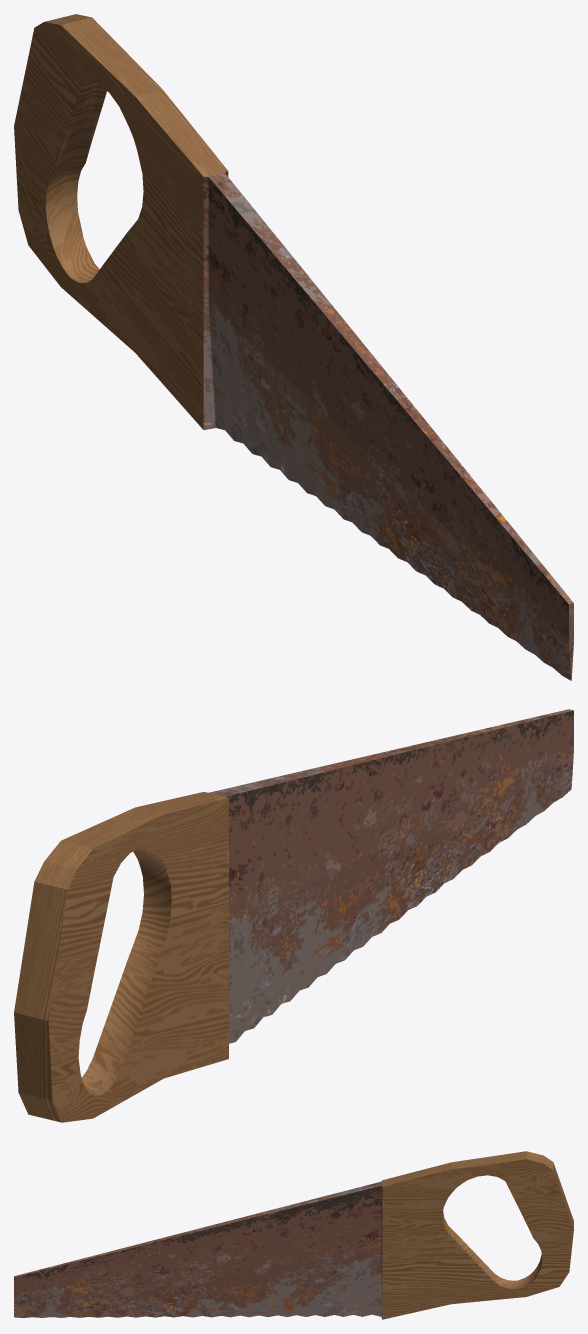
The model's file is Saw.fbx.
3 views of the same model, one above another, from view 1: azimuth 30°, elevation 25°; view 2: azimuth 150°, elevation 25°; view 3: azimuth 270°, elevation 25° (orthographic). The views are drawn at different scales.
Visible parts, largest first — view 1: saw; view 2: saw; view 3: saw.
Part boxes in pixels (box(x1,y1,x2,y2)): saw: box(14, 14, 573, 680); saw: box(14, 709, 573, 1122); saw: box(14, 1151, 573, 1319).
Bounding box in the file's own units: 2.89 × 25.26 × 79.66.
